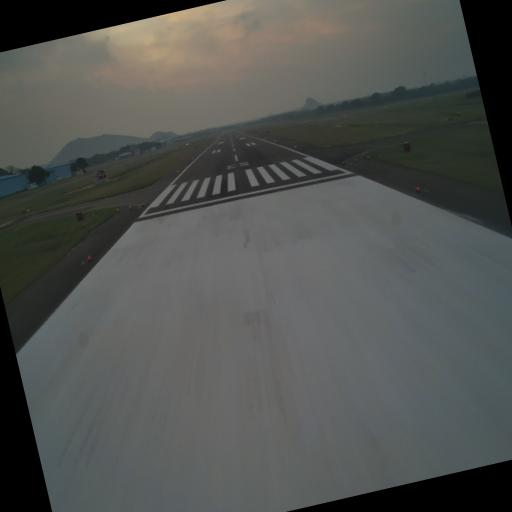on: (415, 184, 422, 194), (87, 252, 93, 262)
